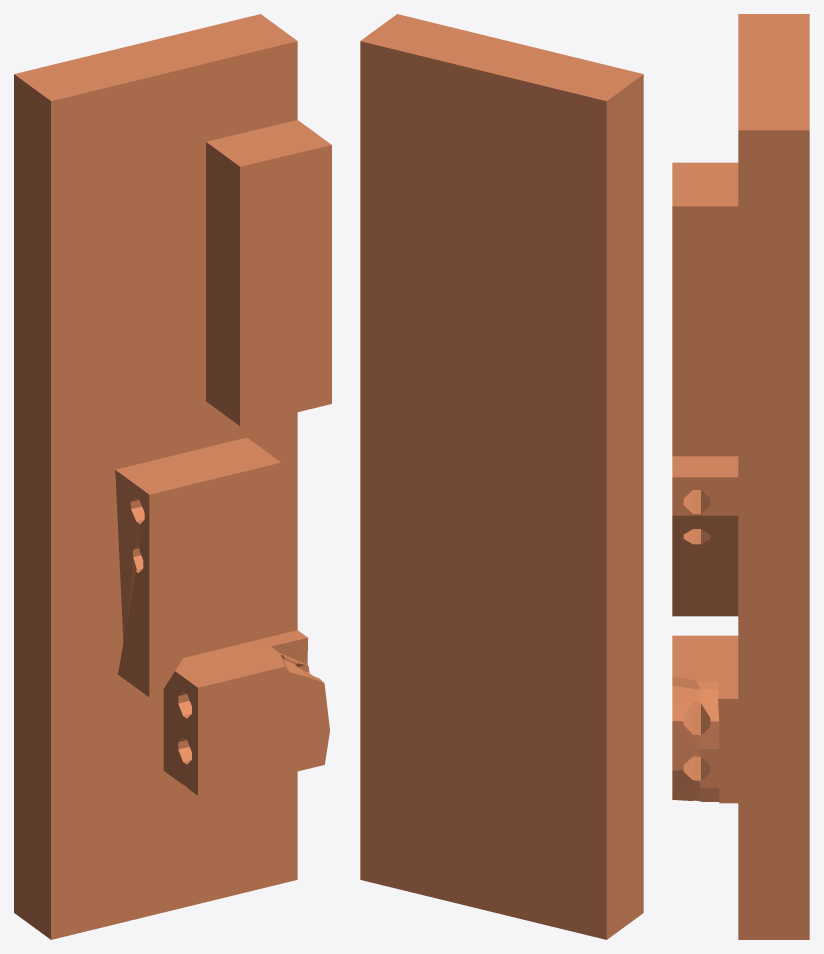
Rendered from Door_wingBackLeft.fbx.
3 renders of one model, left to right at view 1: azimuth 30°, elevation 25°; view 2: azimuth 150°, elevation 25°; view 3: azimuth 270°, elevation 25°, orthographic. The views are drawn at different scales.
Parts seen in each view (by area): view 1: Door_wingBackLeft; view 2: Door_wingBackLeft; view 3: Door_wingBackLeft.
Boxes of the visible parts, x1,y1,x2,y2 form: Door_wingBackLeft: (14,14,331,939); Door_wingBackLeft: (360,14,643,939); Door_wingBackLeft: (672,14,809,939).
Size of the model in its own units: 2 by 6.5 by 1.
